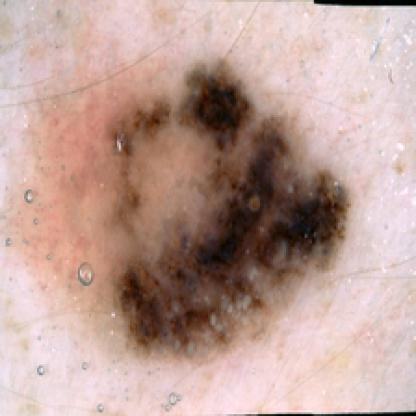malignant: (113, 61, 353, 353)
